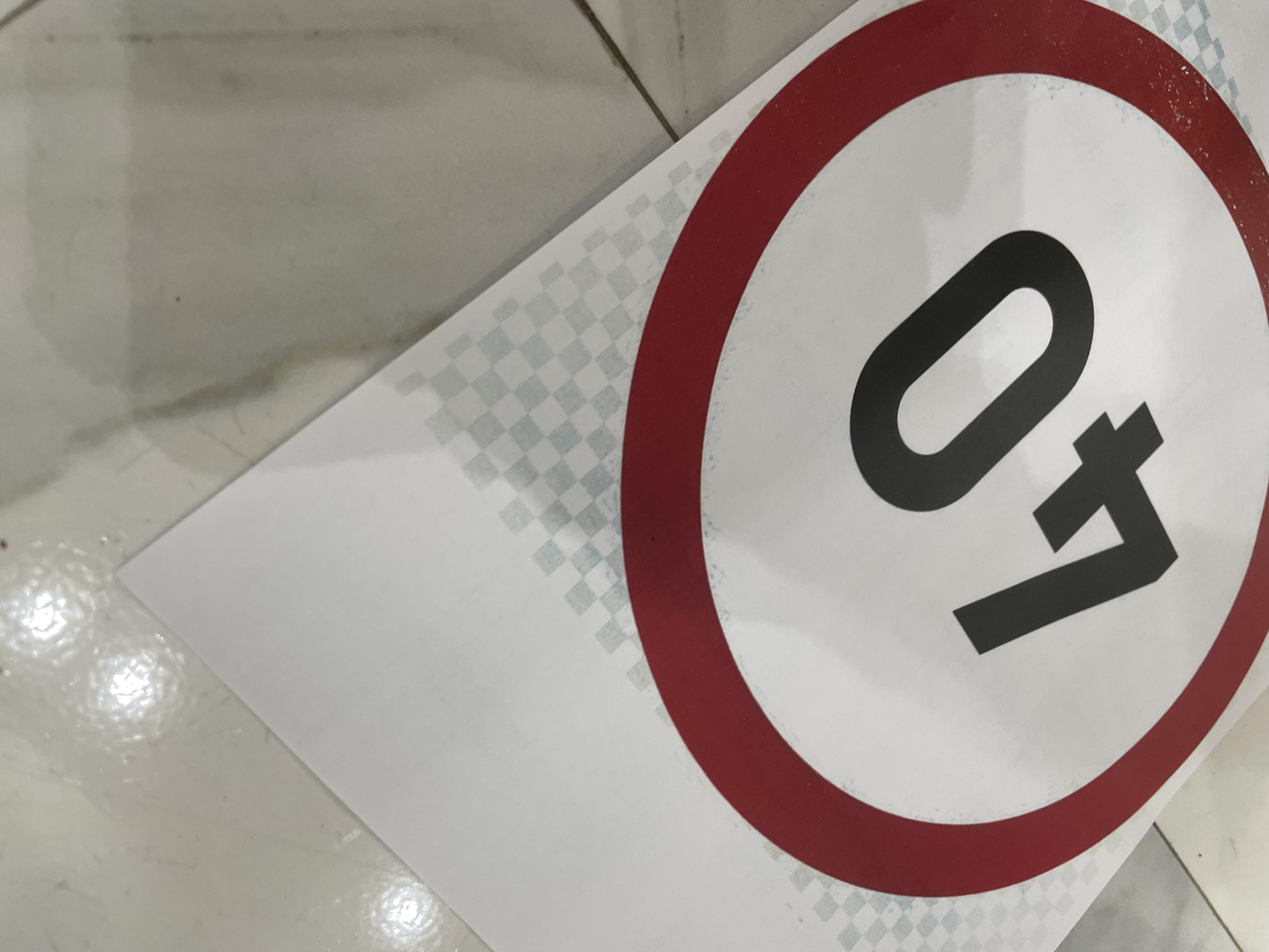40-Speed: (34, 440, 1269, 952)
